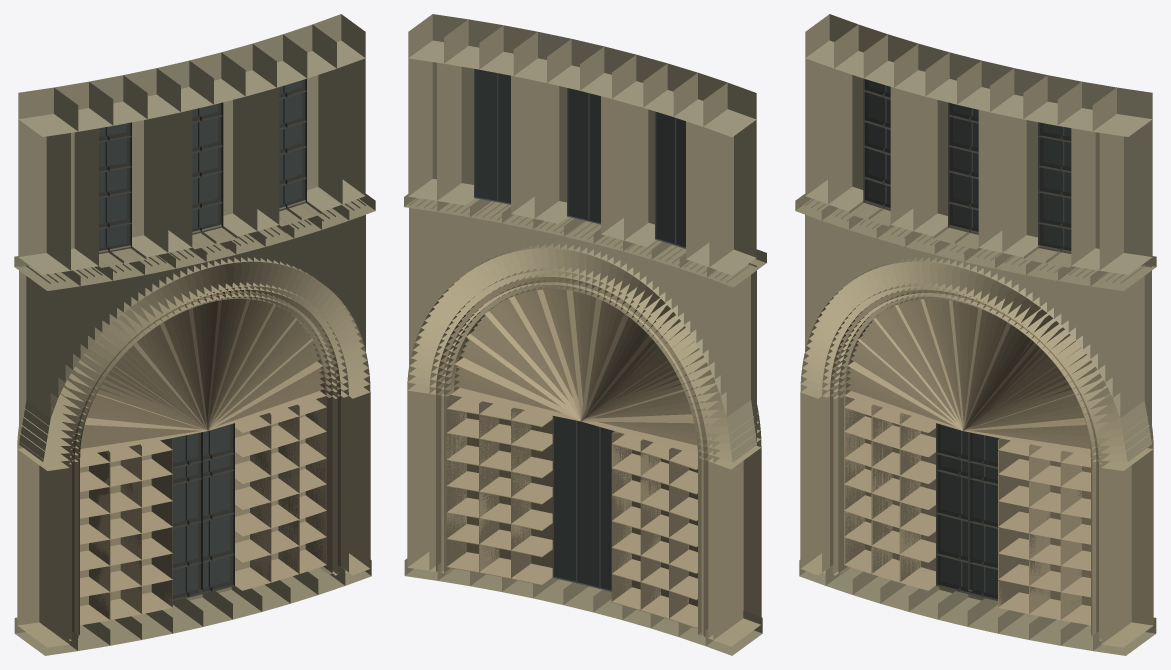
Rendered from jingan-yongxing-telephone-exchange-arched-bay-raw.glb.
3 views of the same model, side by side, from view 1: azimuth 30°, elevation 25°; view 2: azimuth 150°, elevation 25°; view 3: azimuth 330°, elevation 25° (orthographic).
Parts seen in each view (by area): view 1: 上海电话局大楼旧址街角叠券与三联长窗; view 2: 上海电话局大楼旧址街角叠券与三联长窗; view 3: 上海电话局大楼旧址街角叠券与三联长窗.
Part boxes in pixels (<box>): 上海电话局大楼旧址街角叠券与三联长窗: <box>14,14,375,655</box>; 上海电话局大楼旧址街角叠券与三联长窗: <box>404,14,766,655</box>; 上海电话局大楼旧址街角叠券与三联长窗: <box>795,14,1156,655</box>.
Bounding box in the file's own units: 3.64 × 5.74 × 0.8354.
